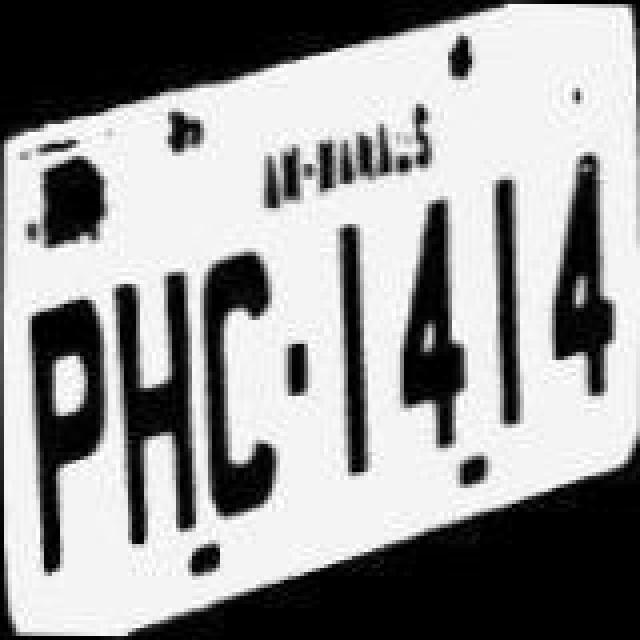1: (484, 150, 536, 434), (330, 222, 378, 506)
4: (396, 184, 472, 460), (546, 144, 618, 424)
C: (200, 236, 280, 520)
H: (108, 266, 196, 546)
P: (22, 290, 106, 566)
